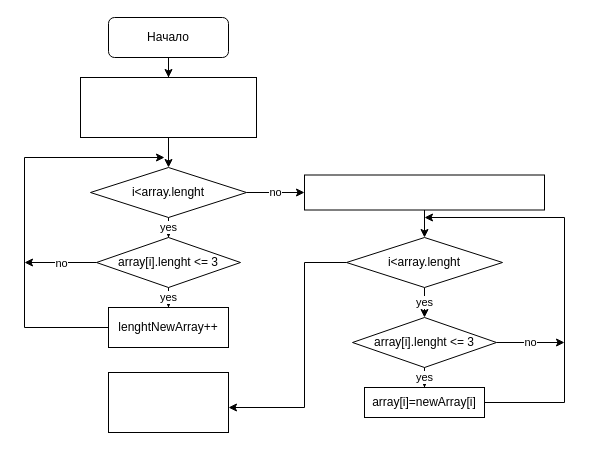
Some shapes in this 590 by 450 pixel diagram are drawn without their labels. The box of each missing label's shape, as (x1, y1, x2, y2) in pixels:
array = ["hello","2","world",":-)"] i=0 lenghtNewArray = 0: (80, 76, 256, 138)
newArray = new string[lenghtNewArray ] i=0: (304, 174, 544, 210)
print(newArray): (108, 372, 228, 432)
